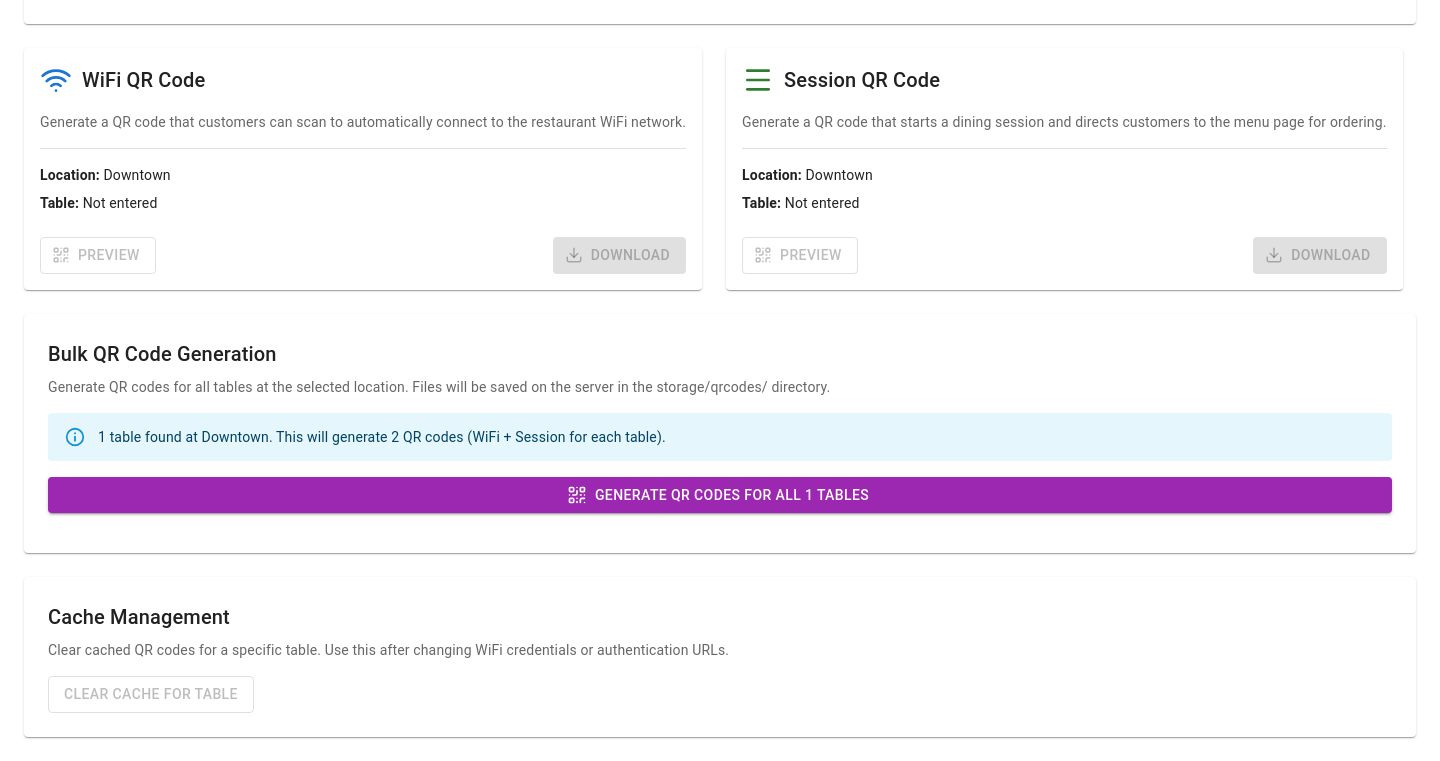
Test: QRCodeManagement Component › displays correct PDF layout information (16 QR per page)
(page scrolled)
Generate QR codes first
Click the button "Generate QR Codes for All 1 Tables" at [720, 495], box [48, 477, 1392, 513]
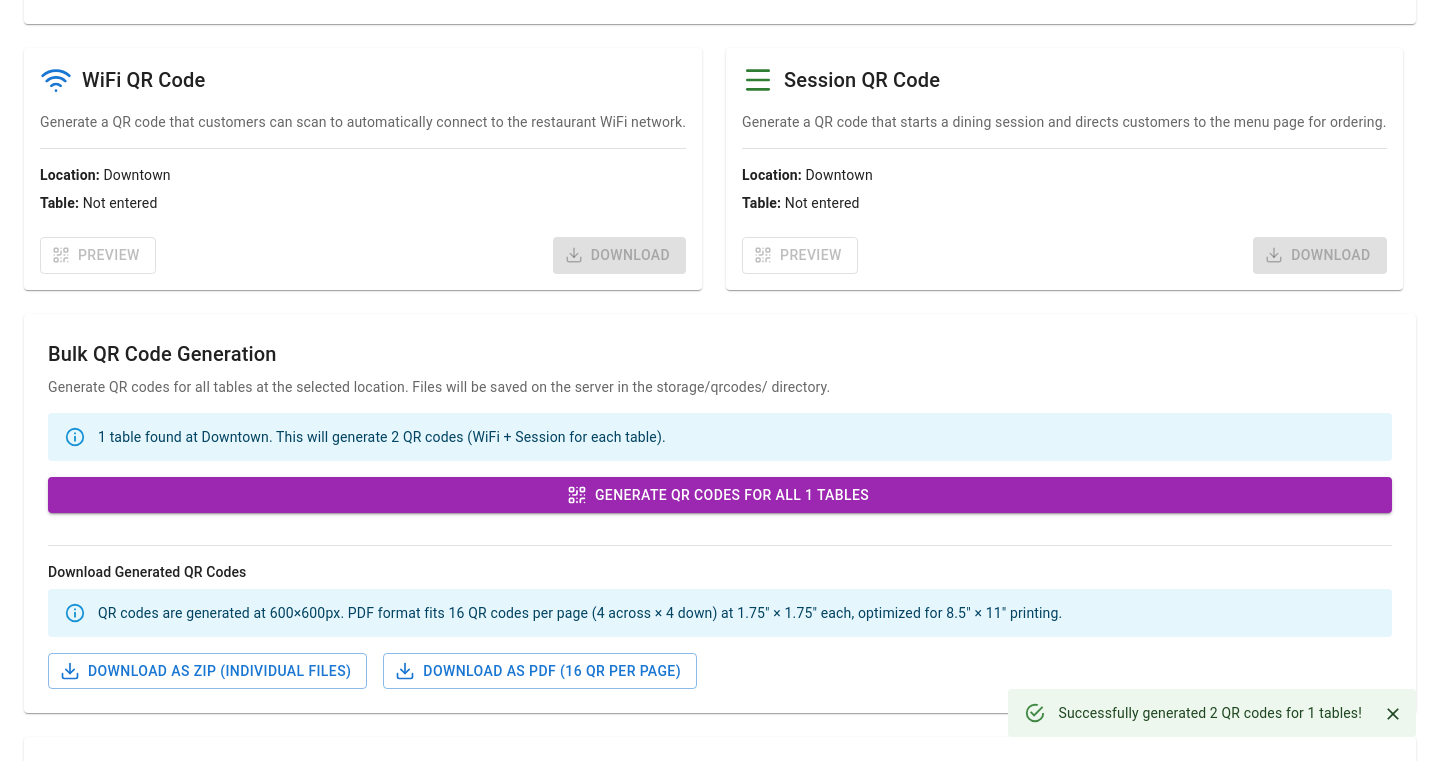
Expected: the text "1.75\" × 1.75\"" is shown, [98, 605, 1062, 621]
